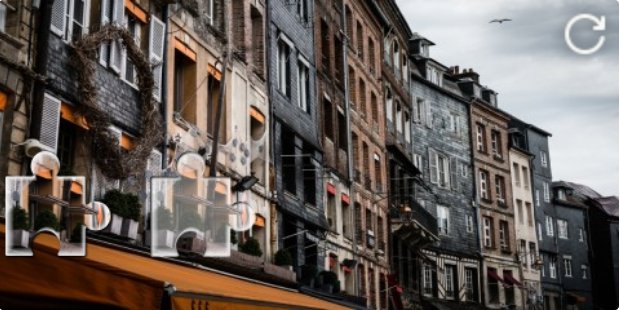target: (151, 152, 254, 256)
